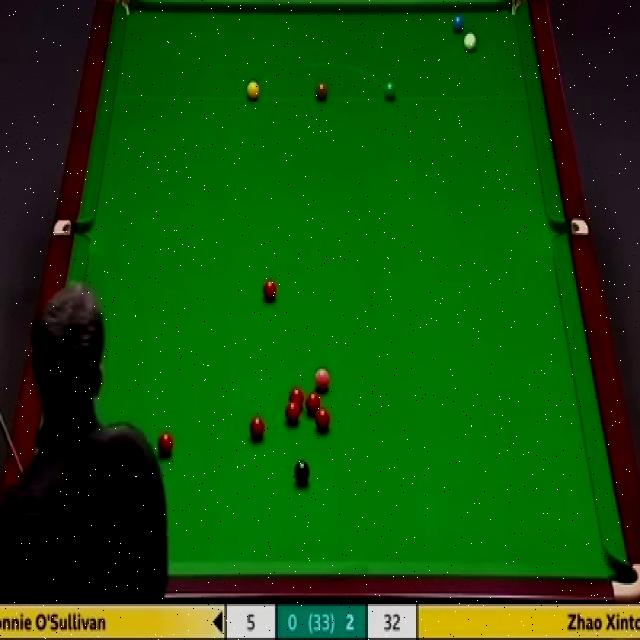black-ball: (294, 460, 311, 487)
blue-ball: (450, 8, 467, 34)
brown-ball: (315, 82, 329, 103)
green-ball: (383, 81, 397, 103)
pink-ball: (311, 367, 331, 393)
red-ball: (156, 431, 174, 457), (284, 401, 301, 426), (262, 278, 278, 304), (287, 386, 305, 408), (250, 415, 264, 442), (315, 407, 330, 431), (308, 390, 325, 411)
white-ball: (462, 28, 482, 54)
yellow-ball: (247, 80, 260, 102)
